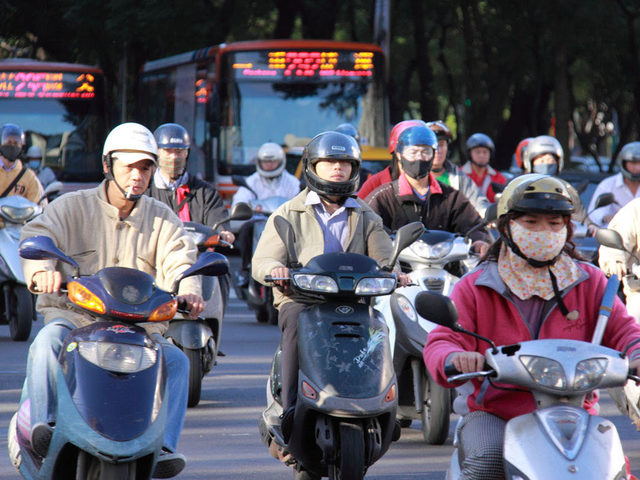helmet: (295, 133, 364, 193), (497, 184, 583, 223), (154, 114, 199, 156), (110, 122, 161, 153), (254, 144, 283, 174), (401, 133, 437, 156)
